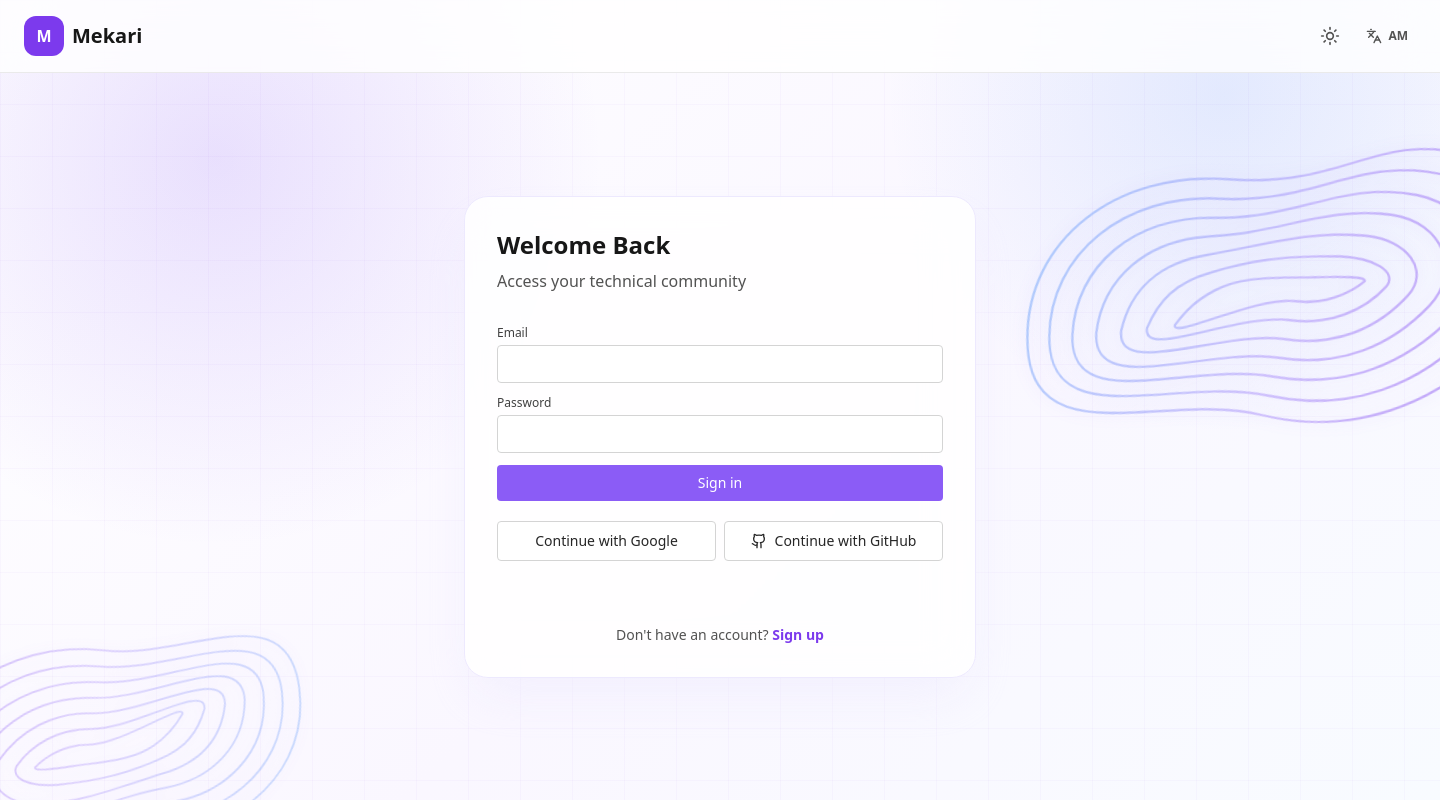
Test case: Mekari authentication › shows login errors and links unverified users to email verification
Step 1. Type "learner@example.com" into the field → (720, 364), box top-left (497, 345), bottom-right (943, 383)
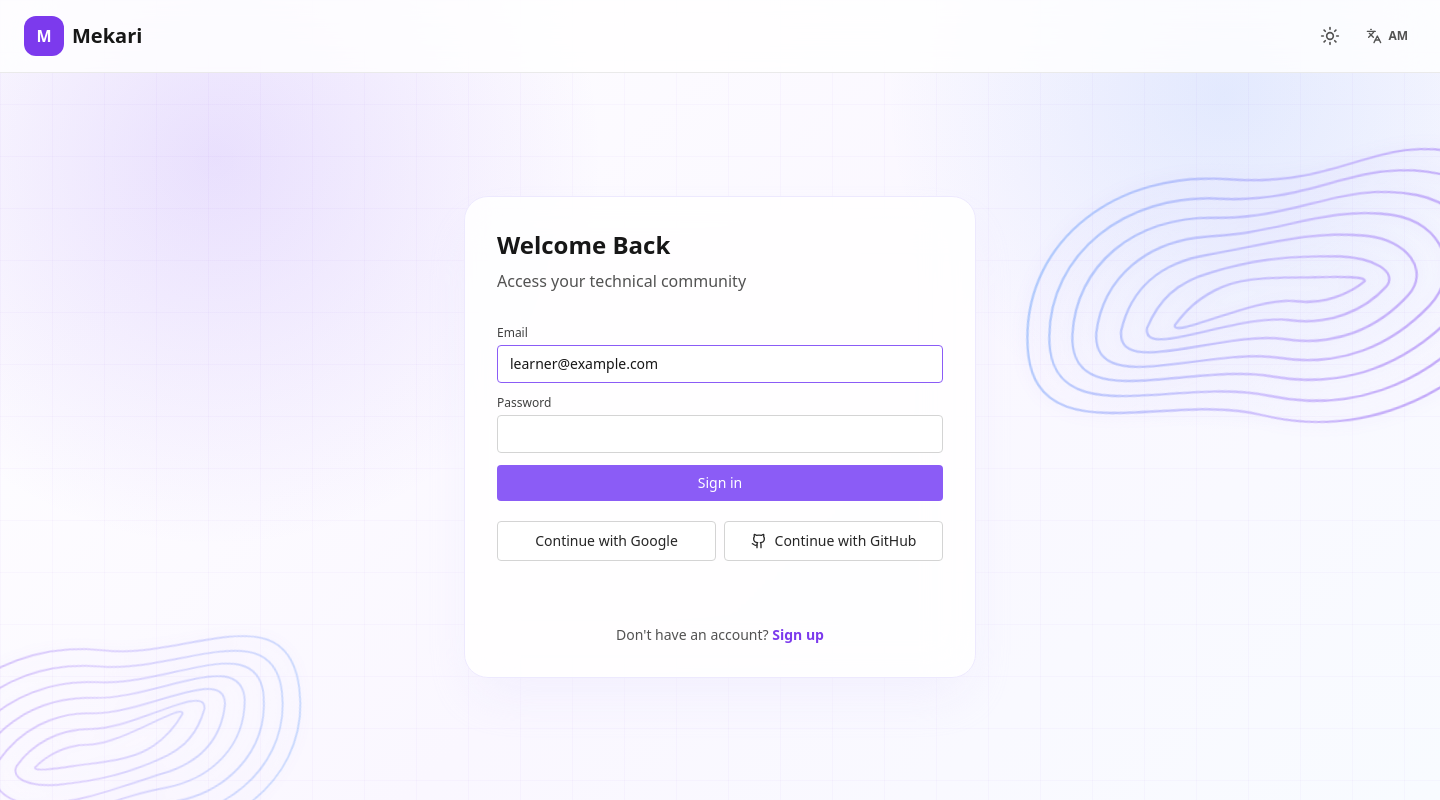
Step 2. Type "WrongPass123!" into the password field → (720, 434), box top-left (497, 415), bottom-right (943, 453)
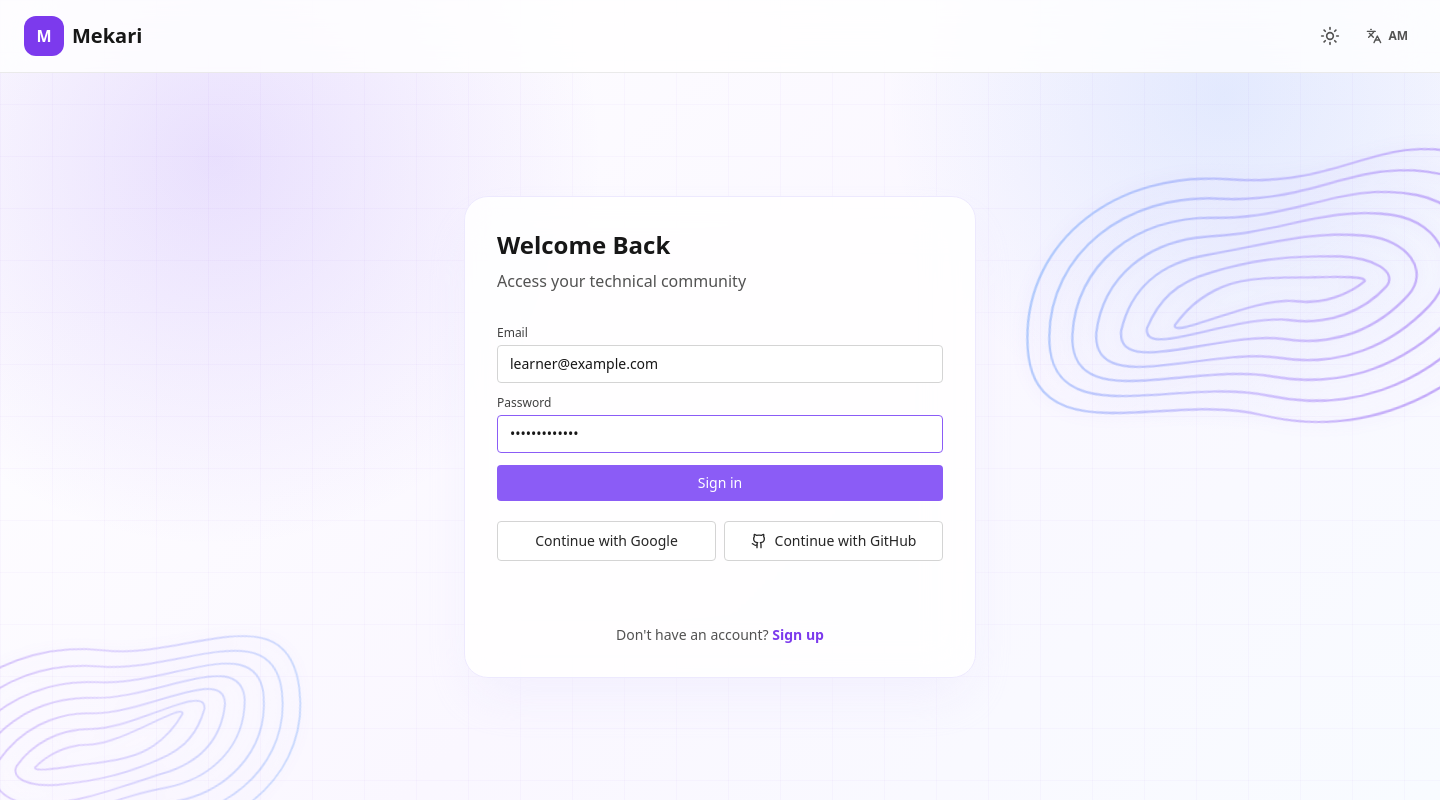
Step 3. Click the button "Sign in" → (720, 483), box top-left (497, 465), bottom-right (943, 501)
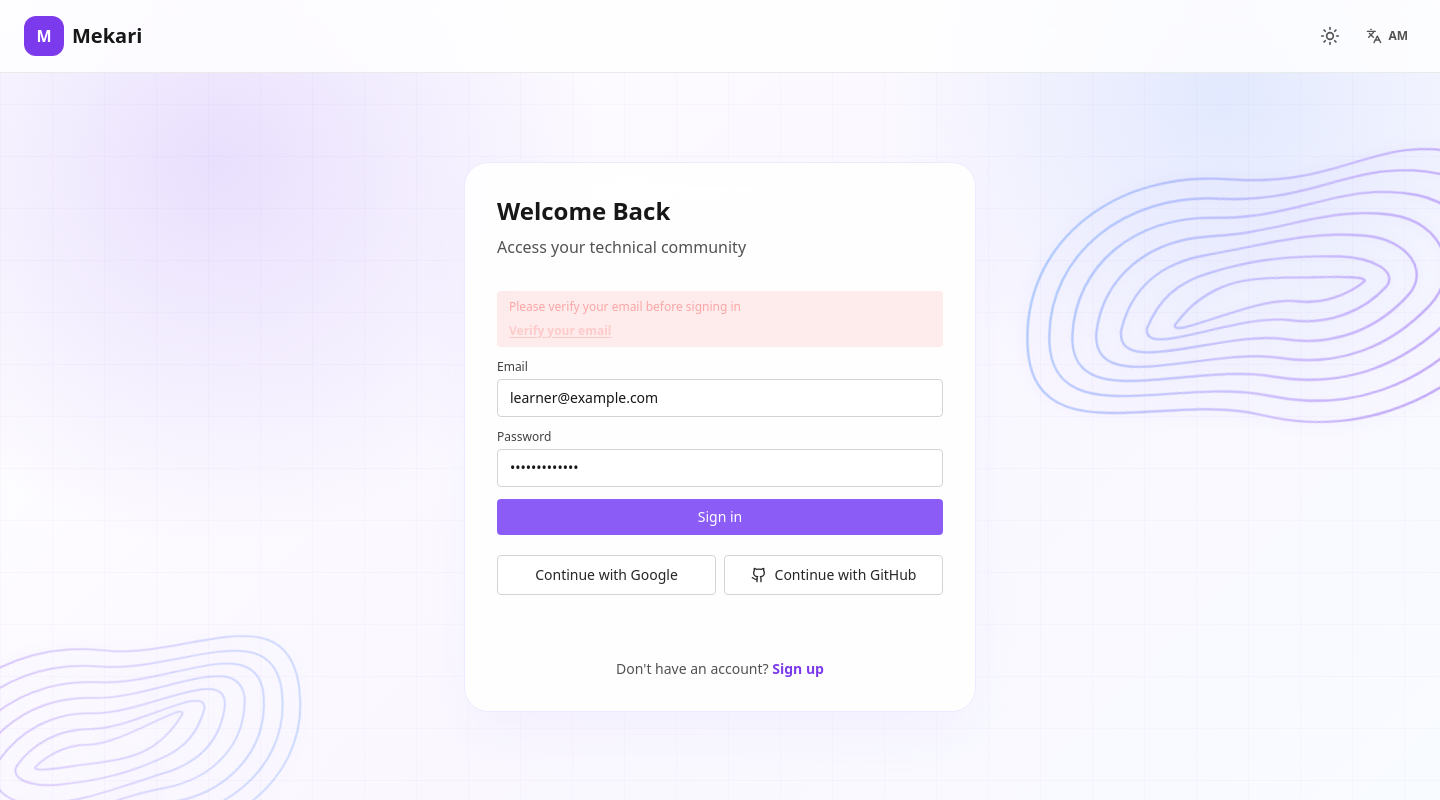
Now the text "Please verify your email before signing in" is shown, box top-left (509, 298), bottom-right (741, 314)
